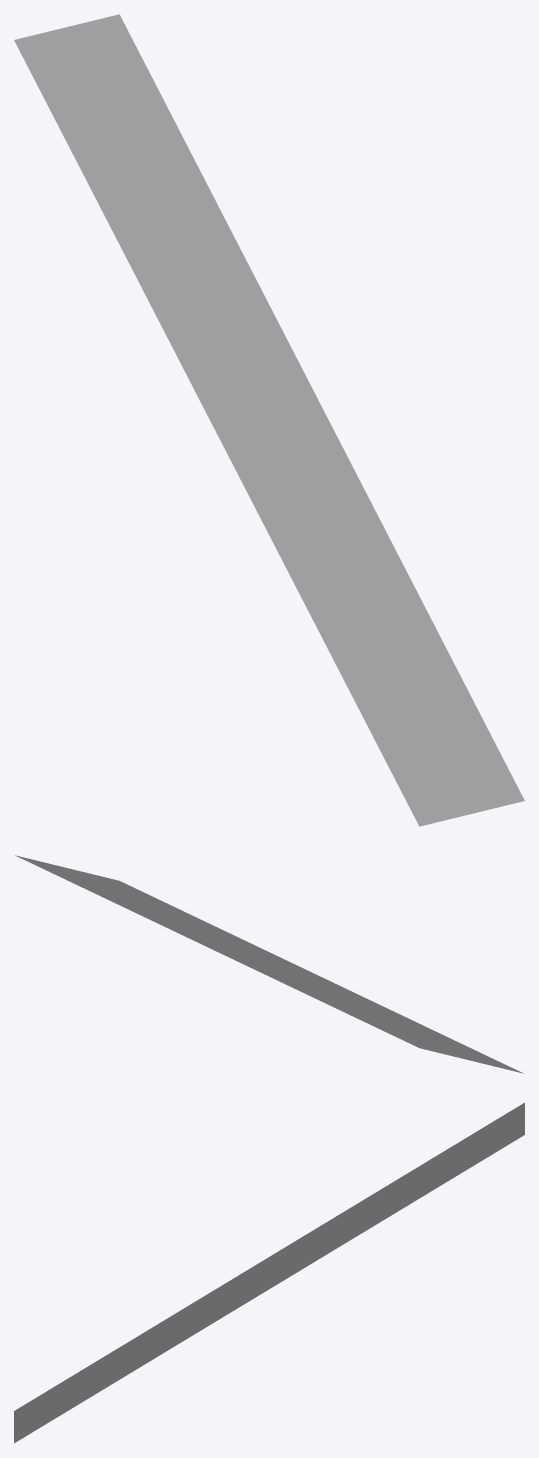
File: SW_ENV_Escalator_5Step_Connector_Collision.fbx
3 views of the same model, one above another, from view 1: azimuth 30°, elevation 25°; view 2: azimuth 150°, elevation 25°; view 3: azimuth 270°, elevation 25° (orthographic). The views are drawn at different scales.
Parts seen in each view (by area): view 1: SW_ENV_Escalator_5Step_Connector_Collision; view 2: SW_ENV_Escalator_5Step_Connector_Collision; view 3: SW_ENV_Escalator_5Step_Connector_Collision.
Part boxes in pixels (bbox=[...]): SW_ENV_Escalator_5Step_Connector_Collision: bbox=[14, 14, 524, 826]; SW_ENV_Escalator_5Step_Connector_Collision: bbox=[15, 855, 523, 1073]; SW_ENV_Escalator_5Step_Connector_Collision: bbox=[14, 1102, 524, 1443].
Bounding box in the file's own units: 22.55 × 100 × 150.
